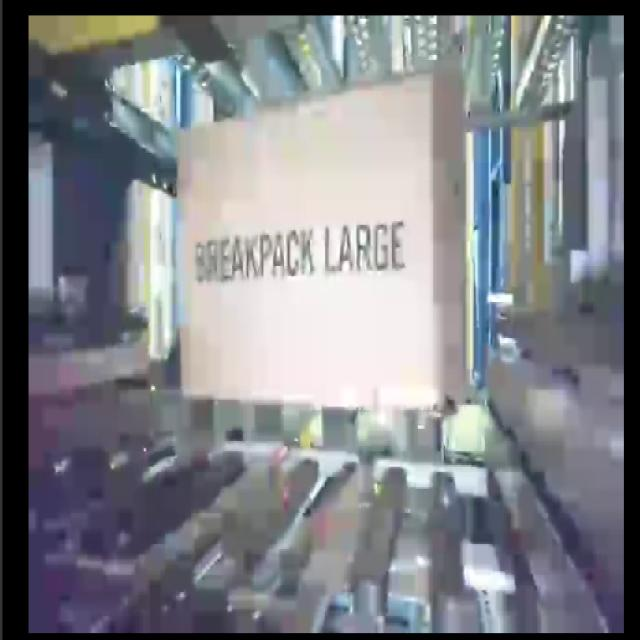box: (176, 71, 443, 412)
